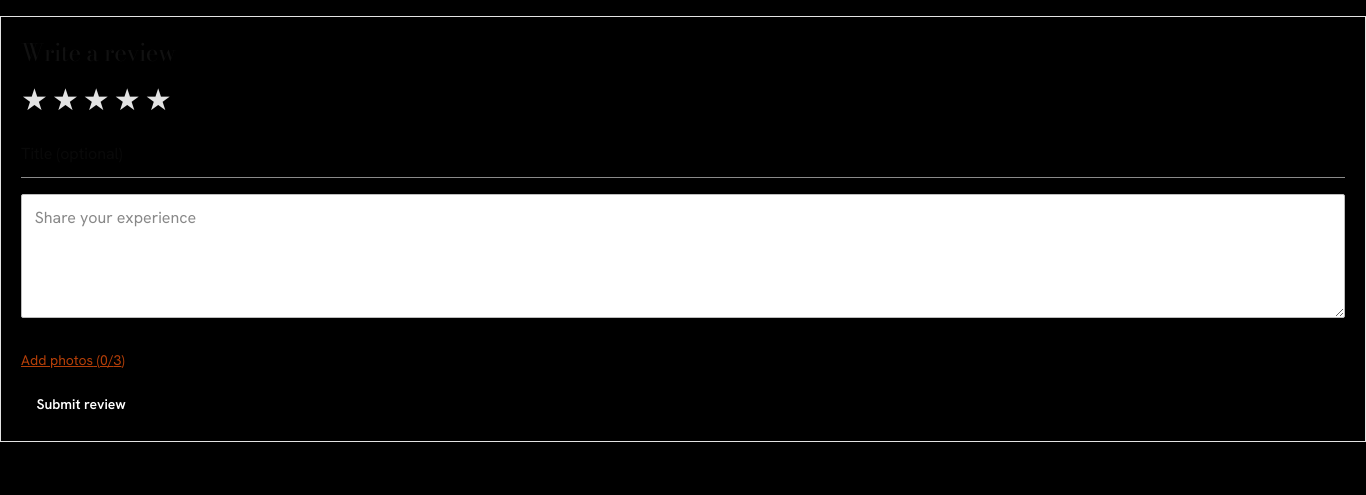
Scenario: new features › ReviewForm validates rating then submits
Click the button "Submit review" at [81, 405], box 21,388 -> 141,421
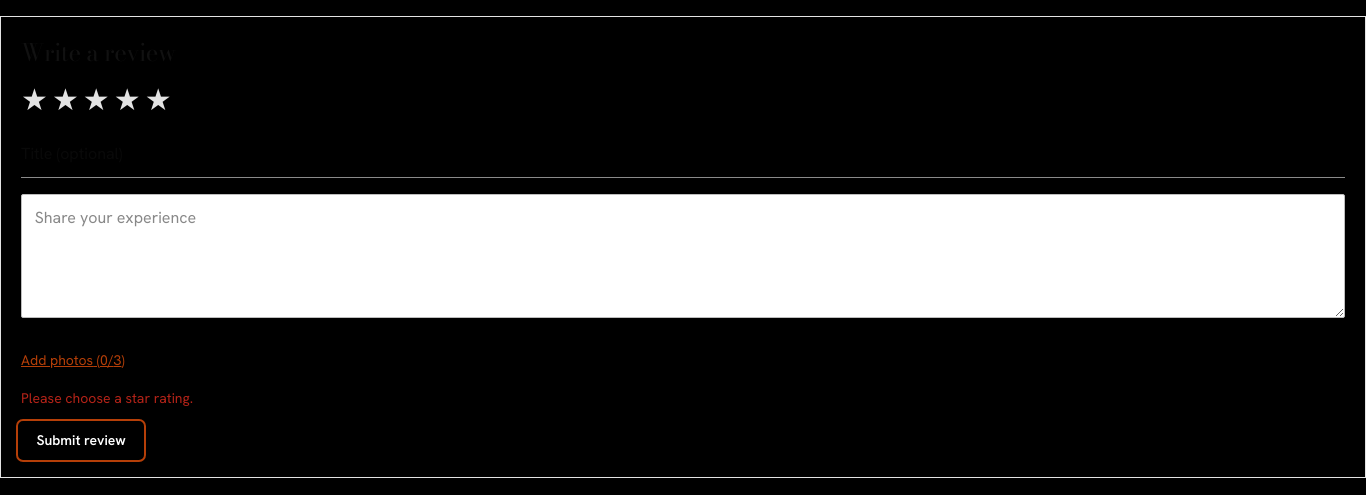
Expected: the message shows "star rating", 21,389 -> 193,407
Click the radio button named "4 stars" at [127, 100], box 114,85 -> 141,115
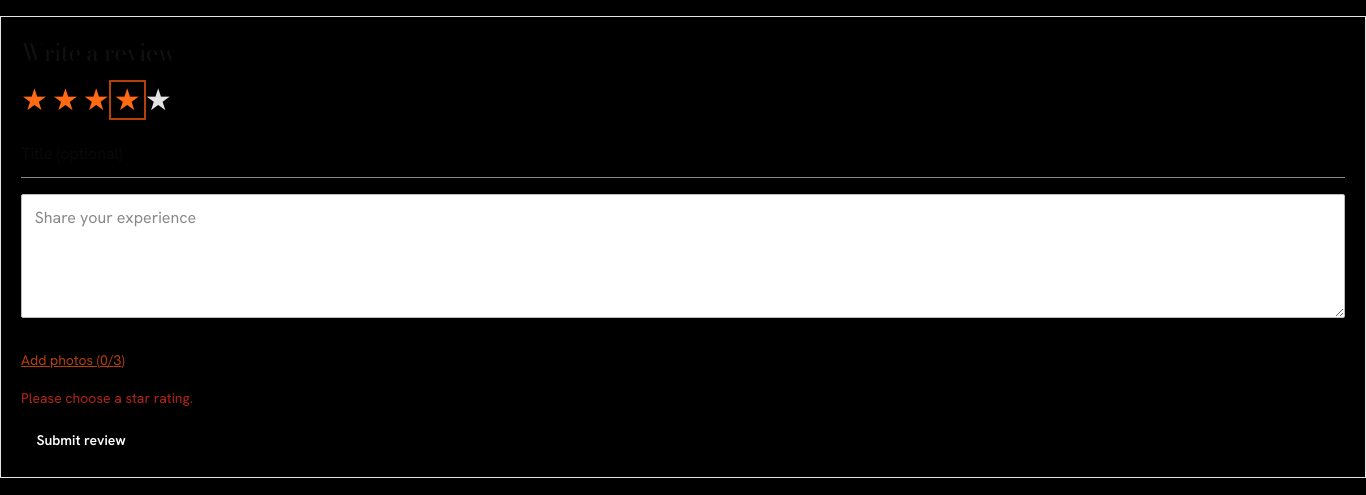
Type "Lovely place" into the text box named "Review comment" at [683, 256], box 21,194 -> 1345,318
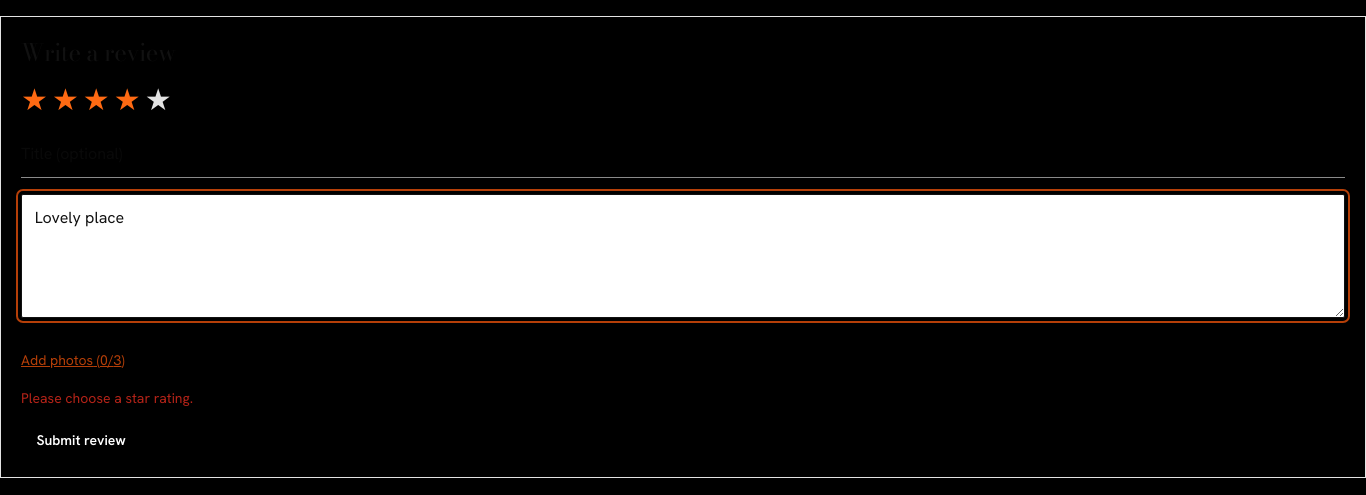
Click the button "Submit review" at [81, 441], box 21,424 -> 141,457
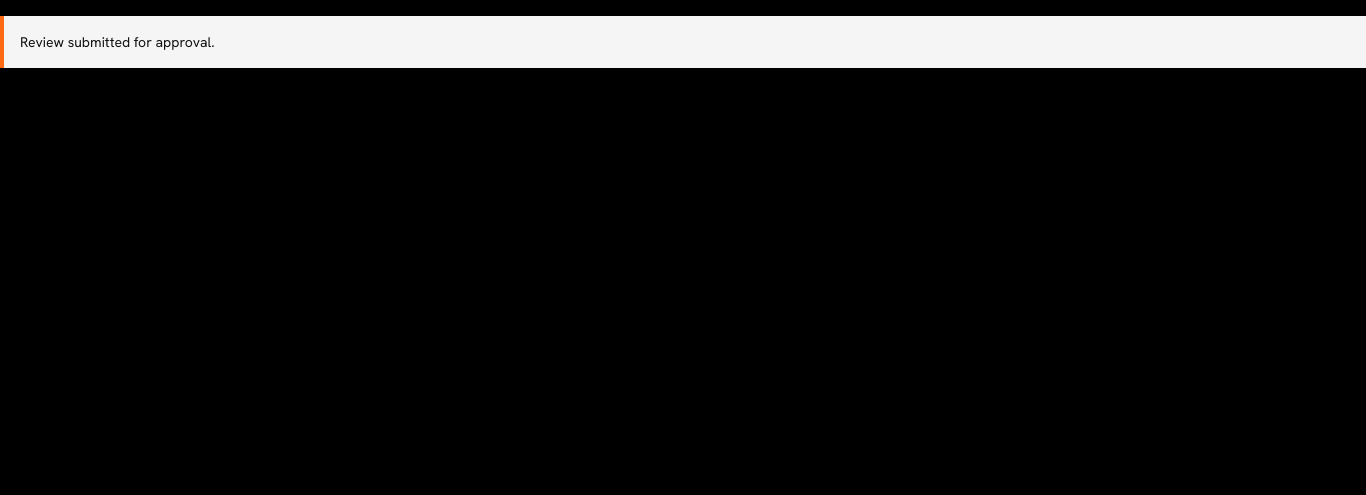
Expected: the message shows "approval", 20,33 -> 214,51
